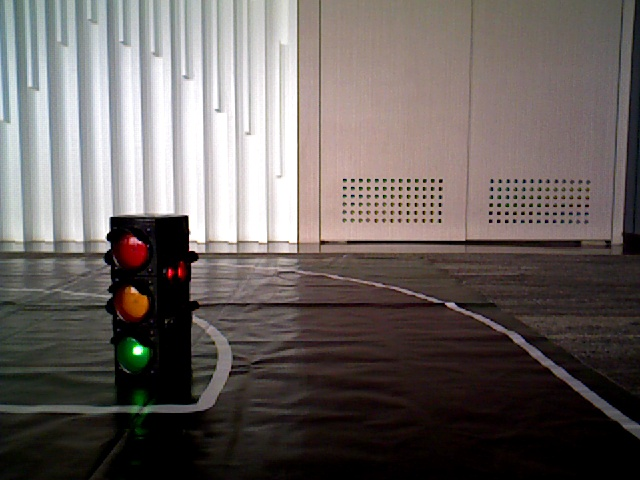green: (114, 220, 159, 377)
